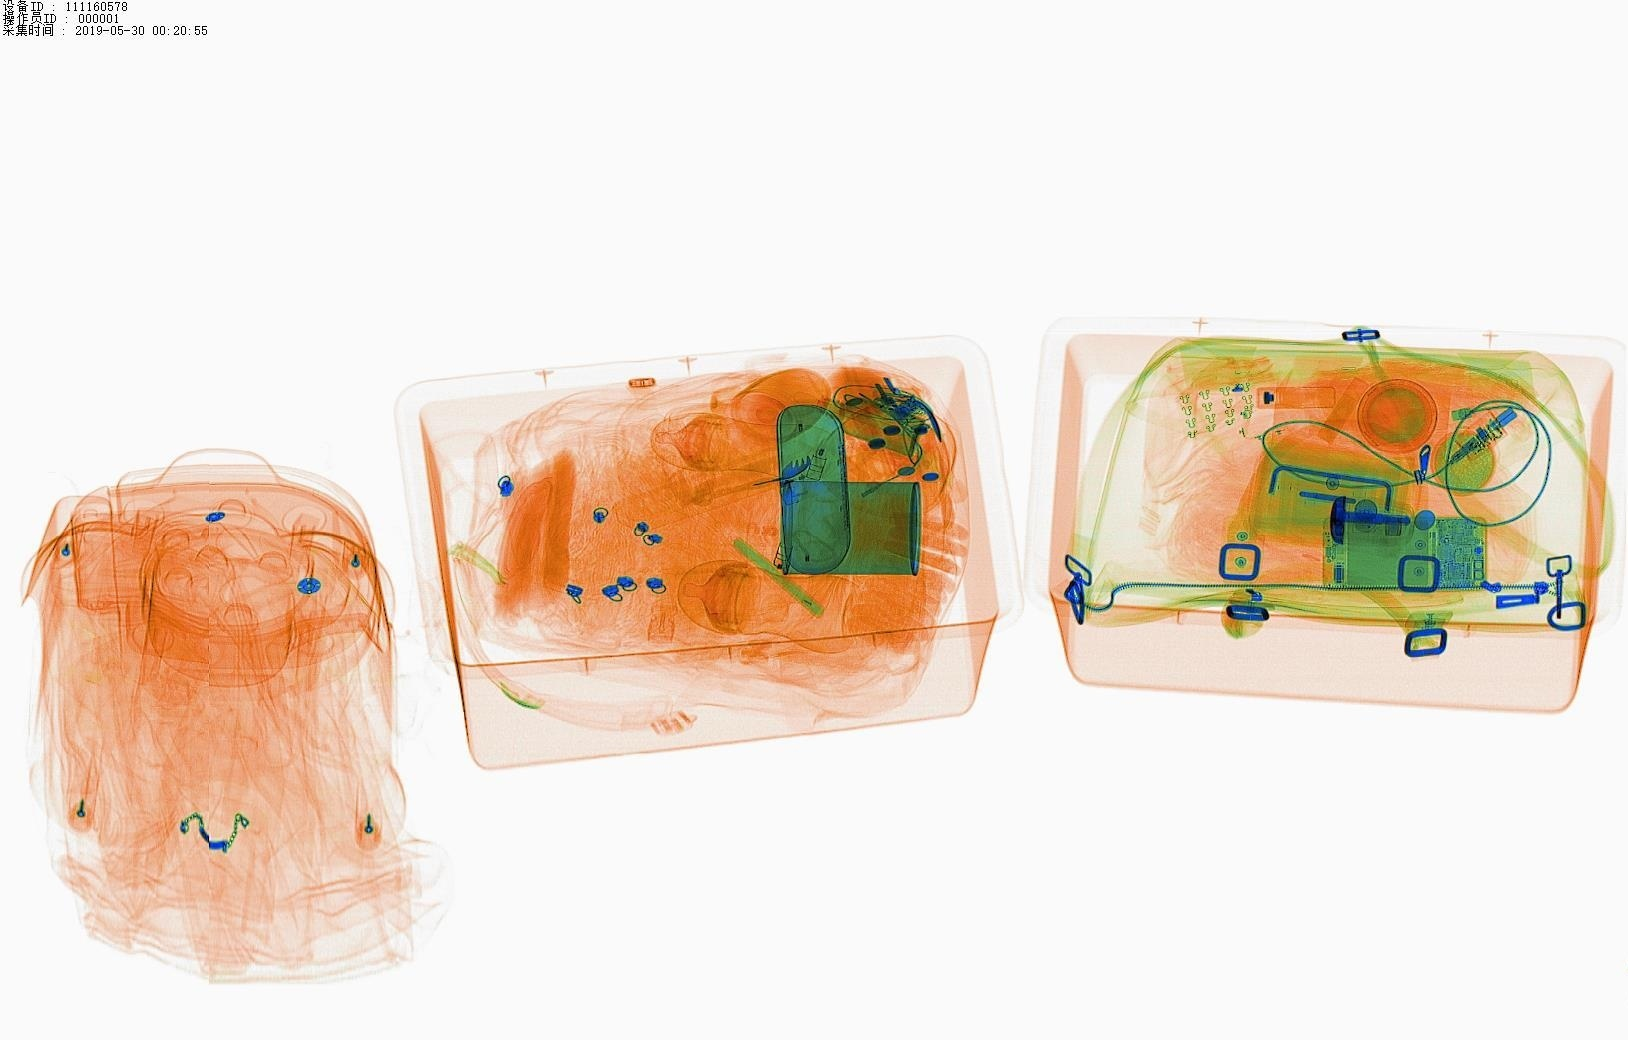NonmetallicFire: (767, 448, 886, 508)
